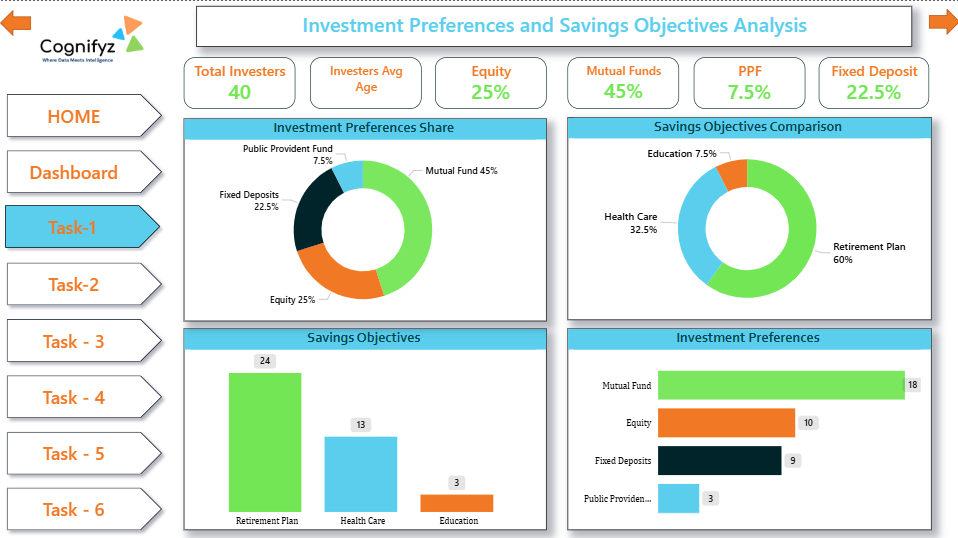

Layout of this report page (visuals, bound fields, positions):
{"tool":"powerbi","page":{"name":"Task-1","canvas":[1280,720],"ordinal":2},"visuals":[{"type":"donutChart","title":"Savings Objectives Comparison","fields":{"Y":["New Measures.Savings Obj Count"],"Category":["Data_set 2.What are your savings objectives?"]},"box":[756.9,155.3,485.5,270.2],"z":4000},{"type":"clusteredColumnChart","title":"Savings Objectives","fields":{"Category":["Data_set 2.What are your savings objectives?"],"Y":["CountNonNull(Data_set 2.What are your savings objectives?)"]},"box":[244.6,436.6,484.2,269],"z":6000},{"type":"image","box":[0,0,226.2,119.8],"z":7000},{"type":"barChart","title":"Investment Preferences","fields":{"Category":["Data_set 2.Avenue"],"Y":["CountNonNull(Data_set 2.Avenue)"]},"box":[756.9,436.6,485.5,269],"z":8000},{"type":"donutChart","title":"Investment Preferences Share","fields":{"Category":["Data_set 2.Avenue"],"Y":["CountNonNull(Data_set 2.Avenue)"]},"box":[244.6,156.5,484.2,270.2],"z":9000},{"type":"shape","box":[0,11,41.6,35.5],"z":10000},{"type":"shape","box":[1238.7,9.8,41.6,35.5],"z":11000},{"type":"textbox","box":[261.4,7.1,954.3,54.3],"z":12000},{"type":"pageNavigator","box":[0,115,225,605],"z":13000},{"type":"card","title":"Mutual Funds","fields":{"Values":["New Measures.total Investment"]},"box":[757.1,74.3,148.6,68.6],"z":13001},{"type":"card","title":"Equity","fields":{"Values":["New Measures.Equity Market %"]},"box":[580,74.3,148.6,68.6],"z":13002},{"type":"card","title":"Fixed Deposit","fields":{"Values":["New Measures.Fixed Deposite %"]},"box":[1091.4,74.3,147.1,68.6],"z":13003},{"type":"card","title":"PPF","fields":{"Values":["New Measures.% PPF"]},"box":[925.7,74.3,148.6,68.6],"z":13004},{"type":"card","title":"Investers Avg Age","fields":{"Values":["New Measures.Average Age"]},"box":[412.9,74.3,148.6,68.6],"z":13005},{"type":"card","title":"Total Investers","fields":{"Values":["New Measures.Total Investors"]},"box":[244.3,74.3,148.6,68.6],"z":13007}]}

Visuals, with their boxes in screenshot pixels (x1, y1, x2, y2):
"Savings Objectives Comparison" donutChart: [566,115,924,314]
"Savings Objectives" clusteredColumnChart: [188,322,545,521]
image: [7,0,174,88]
"Investment Preferences" barChart: [566,322,924,521]
"Investment Preferences Share" donutChart: [188,116,545,315]
shape: [7,8,38,34]
shape: [922,7,952,33]
textbox: [200,5,905,45]
pageNavigator: [7,85,174,531]
"Mutual Funds" card: [566,55,676,105]
"Equity" card: [436,55,545,105]
"Fixed Deposit" card: [813,55,922,105]
"PPF" card: [691,55,800,105]
"Investers Avg Age" card: [312,55,422,105]
"Total Investers" card: [188,55,297,105]
